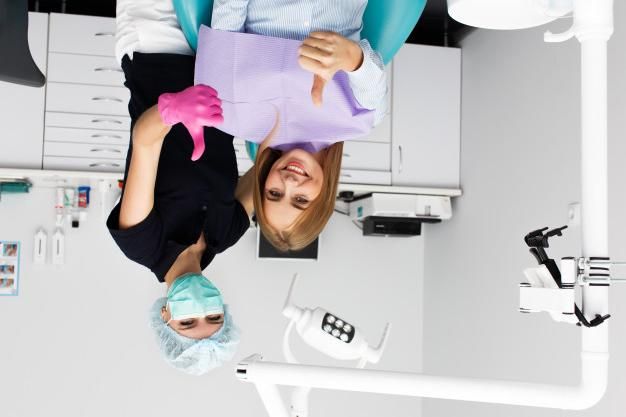thumbsdown: (298, 30, 337, 108), (186, 84, 224, 162)
